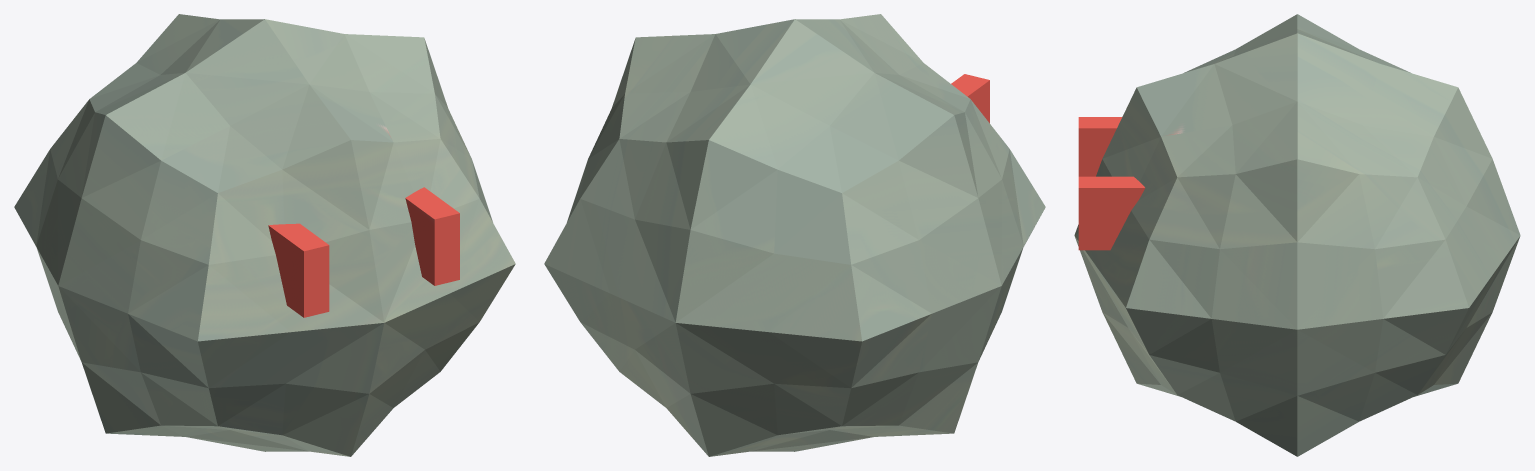
File: enemy.obj
The picture shows the model from 3 angles, left to right: view 1: azimuth 30°, elevation 25°; view 2: azimuth 150°, elevation 25°; view 3: azimuth 270°, elevation 25°; orthographic projection. The views are drawn at different scales.
Visible parts, largest first — view 1: 立方体_立方体.002; view 2: 立方体_立方体.002; view 3: 立方体_立方体.002.
Part boxes in pixels (x1=…): 立方体_立方体.002: x1=14, y1=14, x2=515, y2=456; 立方体_立方体.002: x1=544, y1=14, x2=1045, y2=456; 立方体_立方体.002: x1=1074, y1=14, x2=1520, y2=456.
Size of the model in its own units: 2.6 by 2.6 by 2.6.
1 material, 1 textured.
